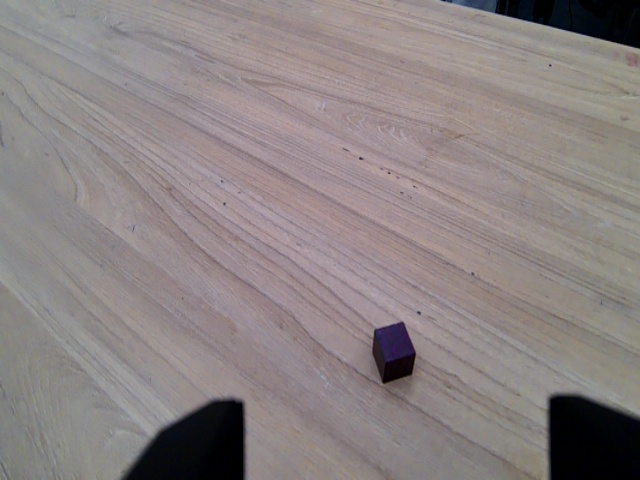brick: (367, 320, 418, 386)
